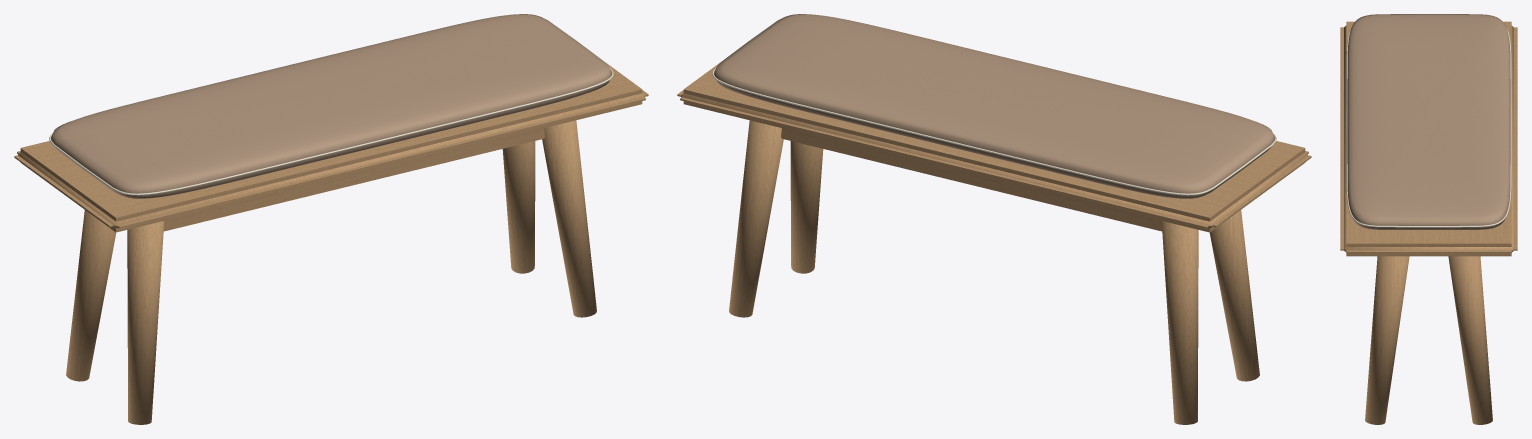
The model's file is scandinavian.bench.gltf.
The picture shows the model from 3 angles, left to right: view 1: azimuth 30°, elevation 25°; view 2: azimuth 150°, elevation 25°; view 3: azimuth 270°, elevation 25°; orthographic projection. The views are drawn at different scales.
Visible parts, largest first — view 1: scandinavian.bench.rounded-top; view 2: scandinavian.bench.rounded-top; view 3: scandinavian.bench.rounded-top.
Part boxes in pixels (box(x1,y1,x2,y2)): scandinavian.bench.rounded-top: box(14, 14, 648, 424); scandinavian.bench.rounded-top: box(677, 14, 1311, 424); scandinavian.bench.rounded-top: box(1340, 14, 1517, 424).
Bounding box in the file's own units: 1.15 × 0.5105 × 0.38.
Materials: 3 (2 with a texture image).
